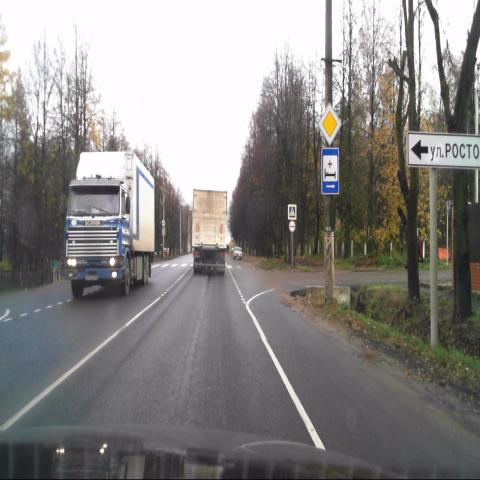7_2: (322, 149, 338, 194)
